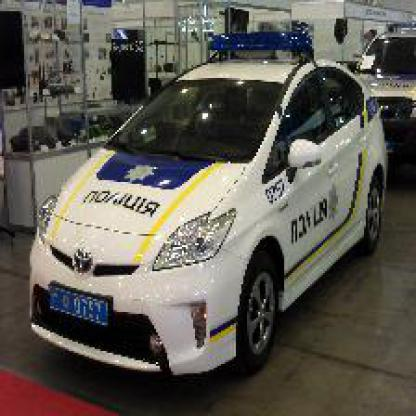emergency: (26, 26, 392, 383), (347, 15, 414, 180)
